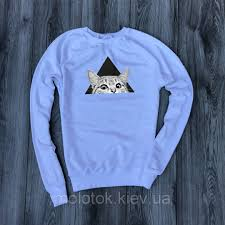cat: (83, 68, 134, 94)
